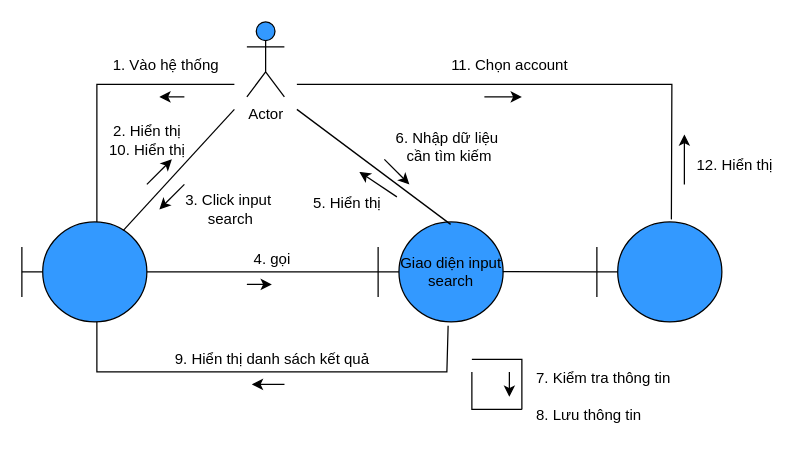
Some shapes in this 806 by 456 pixel diagram are drawn without their labels. The box of each missing label's shape, as (x1, y1, x2, y2) in pixels:
Giao diện profile: (596, 221, 722, 322)
Giao diện Space: (21, 221, 147, 322)
